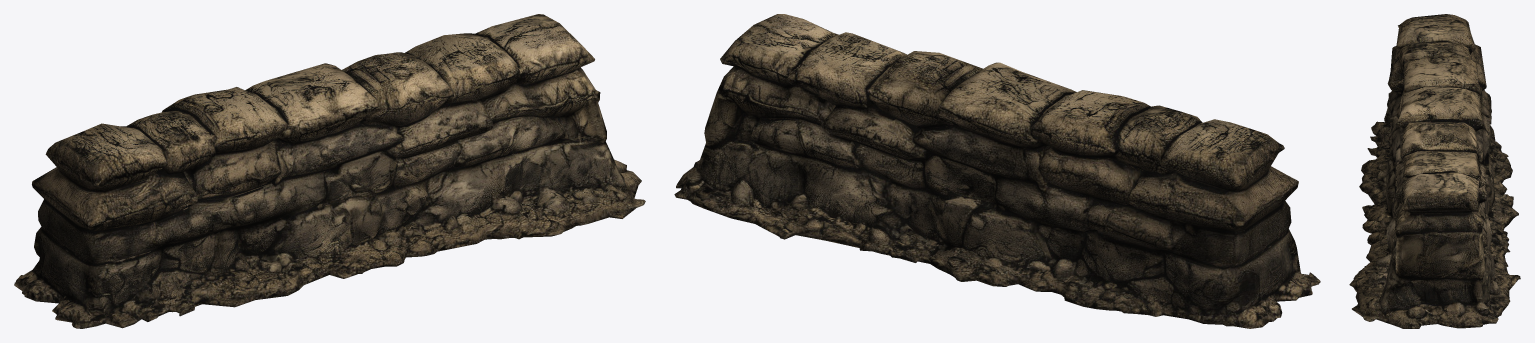
Rendered from sandbag.glb.
3 renders of one model, left to right at view 1: azimuth 30°, elevation 25°; view 2: azimuth 150°, elevation 25°; view 3: azimuth 270°, elevation 25°, orthographic. The views are drawn at different scales.
Visible parts, largest first — view 1: sandbag; view 2: sandbag; view 3: sandbag.
Boxes of the visible parts, x1=… form: sandbag: x1=14, y1=14, x2=645, y2=328; sandbag: x1=674, y1=14, x2=1320, y2=328; sandbag: x1=1349, y1=14, x2=1520, y2=328.
Size of the model in its own units: 1.91 by 0.496 by 0.6394.
Materials: 1 (1 with a texture image).
